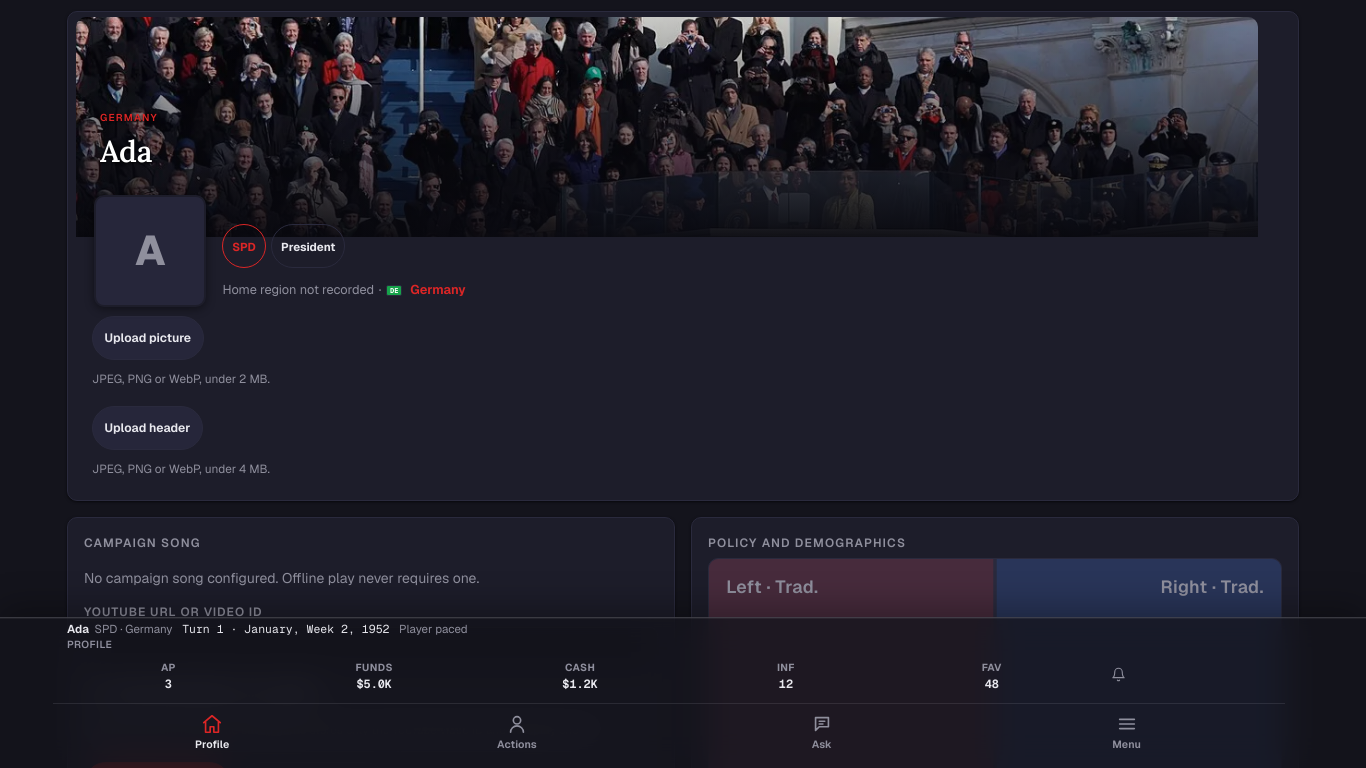
it: HoS office-identity mark › HoS DE flow: chancellor title with parliamentary text, never presidential
The width and height of the screenshot is (1366, 768).
What coordinates should you click on to do the following:
click the button "Actions"
I would click on:
 (517, 734)
Its box is [365, 706, 669, 762].
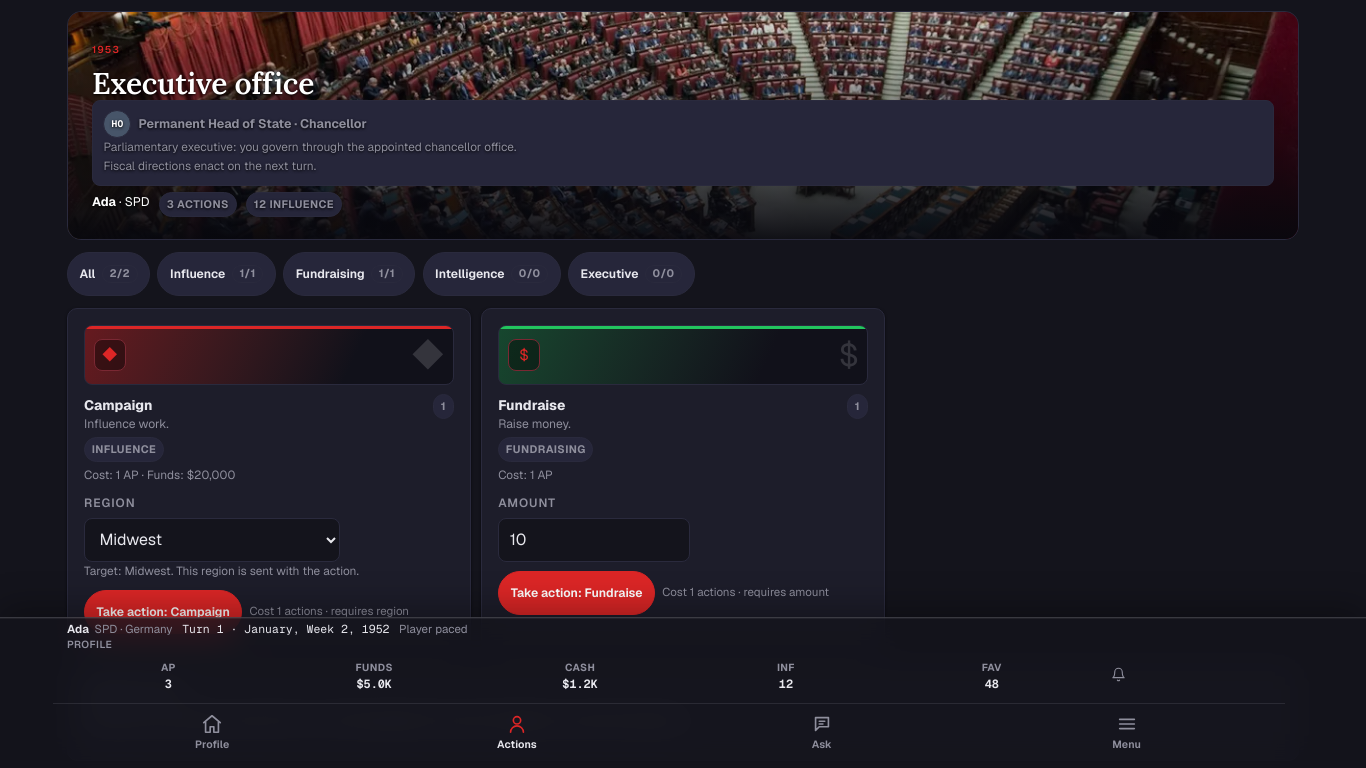
Now the text "Permanent Head of State · Chancellor" is shown, box [139, 114, 367, 134]
Now the text "Parliamentary executive: you govern through the appointed chancellor office." is shown, box [103, 139, 516, 154]
